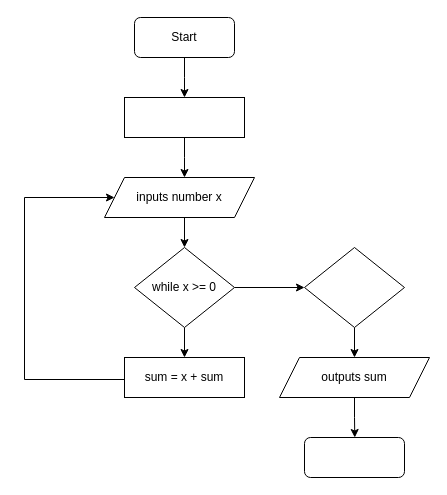
Image size: 447x495. Some labels were removed from this diagram. The shapes that lost their labels are listed below. From the top down, each one's box as (x1, y1, x2, y2) in pixels, then its label:
(124, 96, 244, 138): set sum = 0
(304, 246, 404, 328): while x < 0
(304, 436, 404, 478): End
